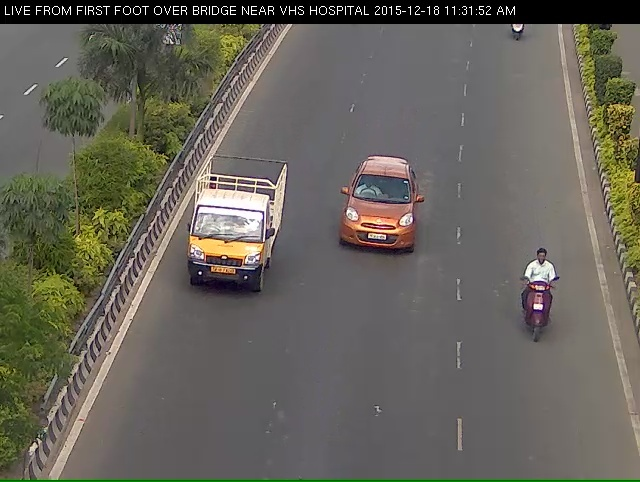Car: (184, 168, 286, 320), (325, 152, 429, 295)
Person: (508, 254, 581, 372)
